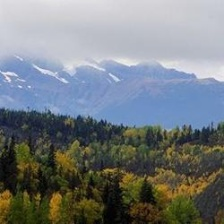neutral: (1, 46, 217, 224)
